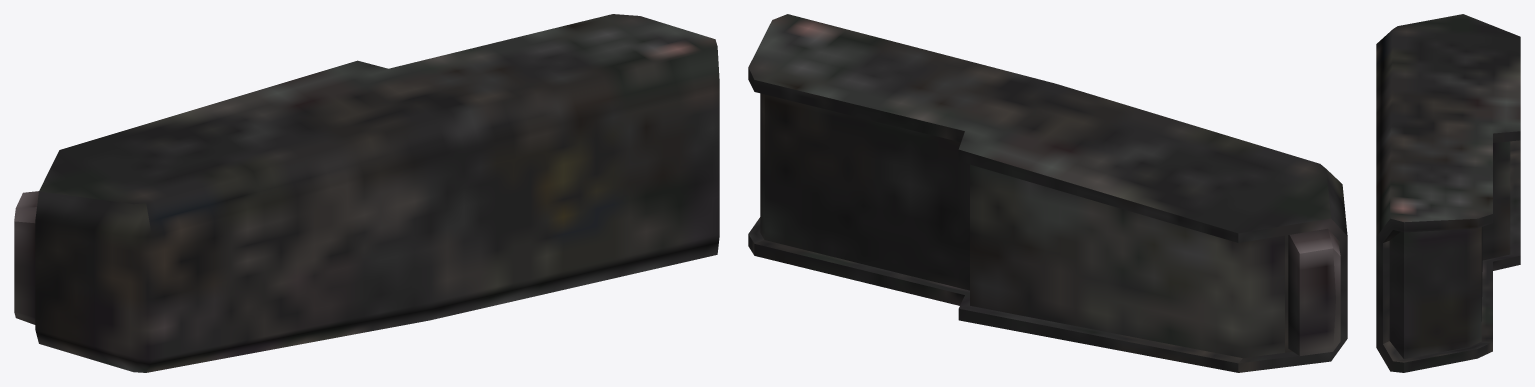
File: veh_t6_drone_quad_rotor_dead_piece2_LOD0.obj
The picture shows the model from 3 angles, left to right: view 1: azimuth 30°, elevation 25°; view 2: azimuth 150°, elevation 25°; view 3: azimuth 270°, elevation 25°; orthographic projection. The views are drawn at different scales.
Visible parts, largest first — view 1: mtl_t6_veh_drone_quad_rotor_body_dest; view 2: mtl_t6_veh_drone_quad_rotor_body_dest; view 3: mtl_t6_veh_drone_quad_rotor_body_dest.
Boxes of the visible parts, x1,y1,x2,y2 form: mtl_t6_veh_drone_quad_rotor_body_dest: (14,14,719,372); mtl_t6_veh_drone_quad_rotor_body_dest: (748,14,1347,372); mtl_t6_veh_drone_quad_rotor_body_dest: (1376,14,1520,372).
Bounding box in the file's own units: 30.91 × 9.42 × 8.07.
